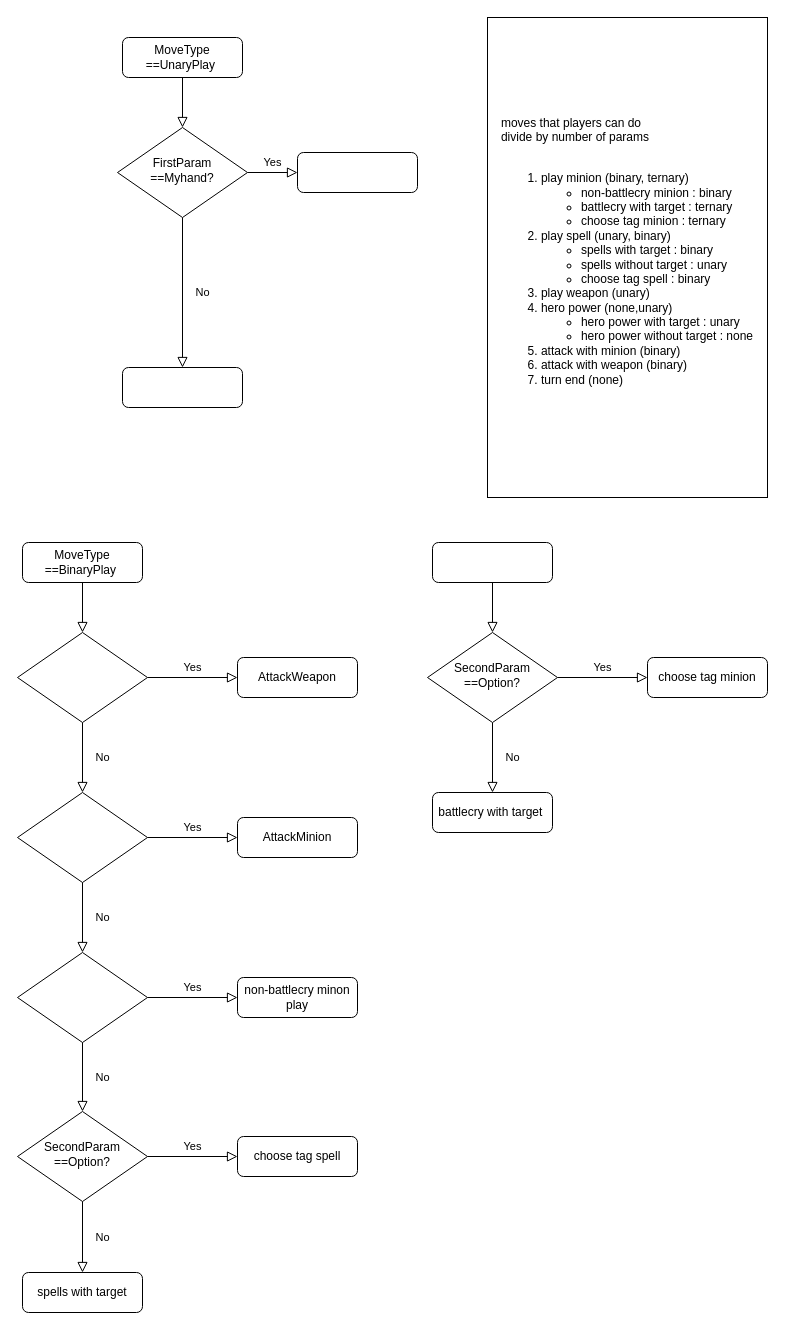
The diagram is 785 pixels wide and 1330 high, and some of its shapes have lost their labels. Each missing label, with the centre of its shape:
FisrtParam ==MyBoard?: the point at 82,837
FisrtParam ==Self?: the point at 82,677
HeroPower with target: the point at 182,387
MoveType ==TernaryPlay: the point at 492,562
PlaySpell: the point at 357,172
SecondParam ==MyBoard?: the point at 82,997
